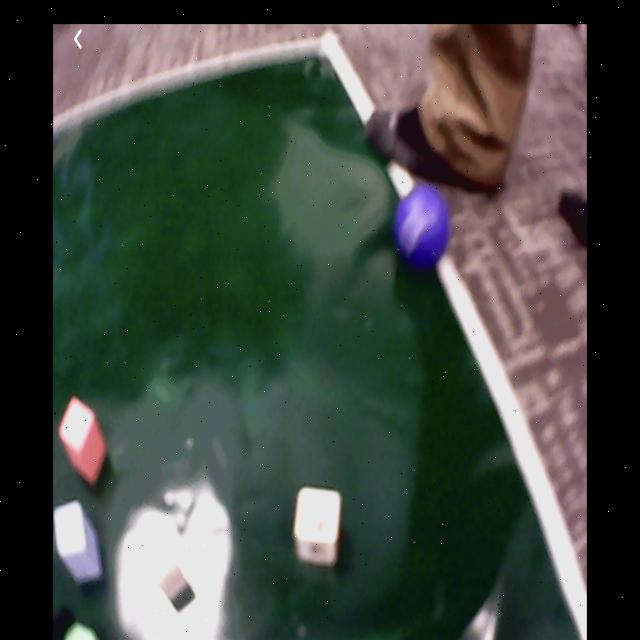ball: (396, 187, 450, 266)
